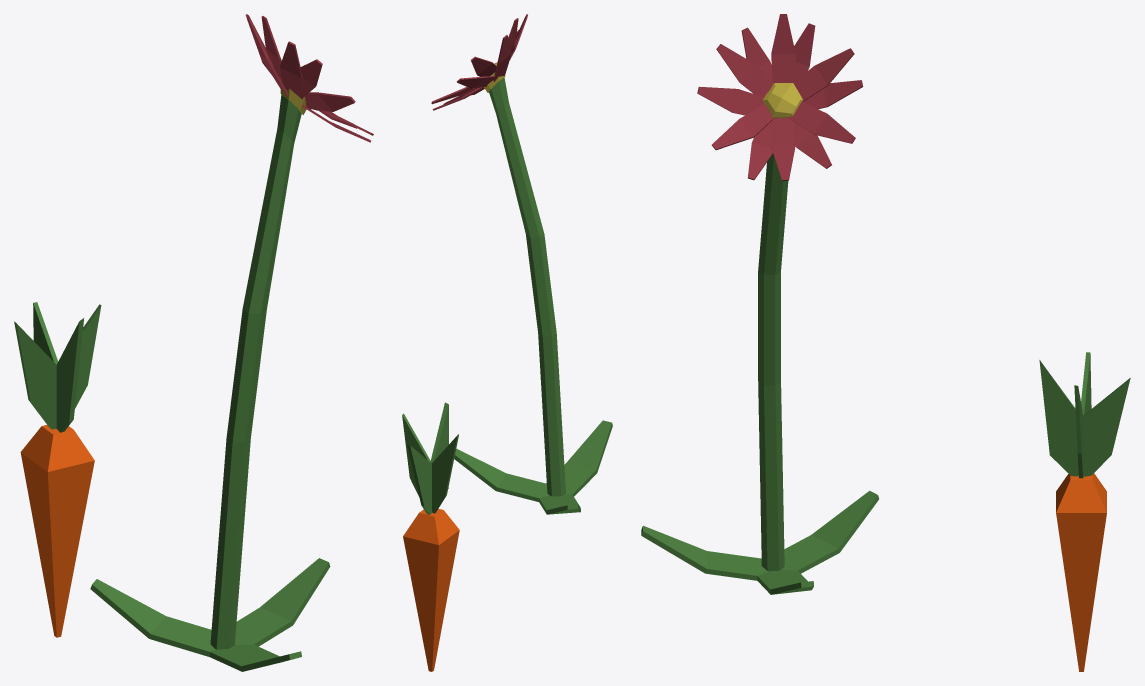
Rendered from MageHunter - Garden.fbx.
3 renders of one model, left to right at view 1: azimuth 30°, elevation 25°; view 2: azimuth 150°, elevation 25°; view 3: azimuth 270°, elevation 25°, orthographic. The views are drawn at different scales.
Parts seen in each view (by area): view 1: Circle, Cube.001; view 2: Circle, Cube.001; view 3: Circle, Cube.001.
Part boxes in pixels (x1,y1,x2,y2): Circle: (90, 14, 373, 671); Cube.001: (14, 302, 101, 637); Circle: (431, 14, 612, 514); Cube.001: (402, 402, 459, 671); Circle: (641, 14, 878, 594); Cube.001: (1039, 352, 1130, 671).
Bounding box in the file's own units: 23.48 × 73.78 × 48.22.
